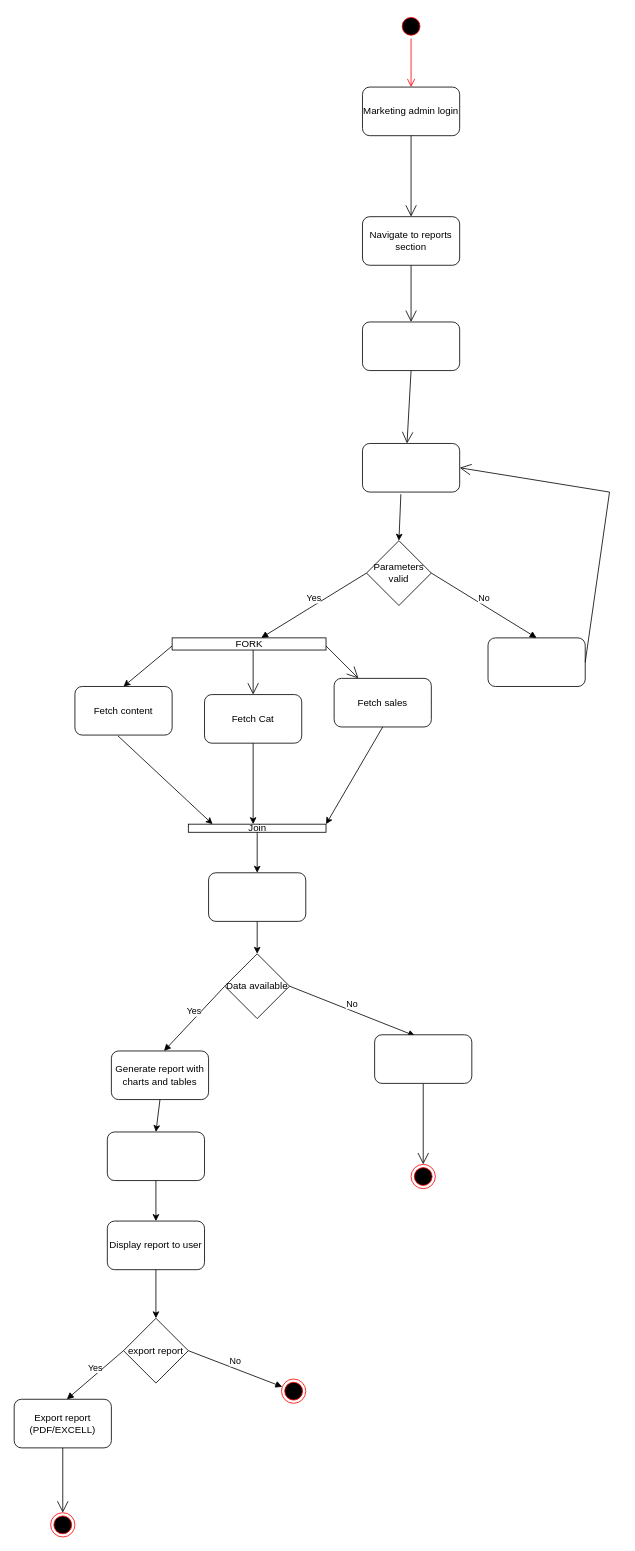
This 635x1551 diagram has some shape labels left out. The centre of each missing label's shape, as x and y in pixels:
Display "No Data Found" message: (x=423, y=1058)
Display validation error: (x=536, y=661)
Enter report parameters: (x=411, y=467)
Generate report: (x=156, y=1156)
Process & available: (x=257, y=896)
select content category report: (x=411, y=346)
